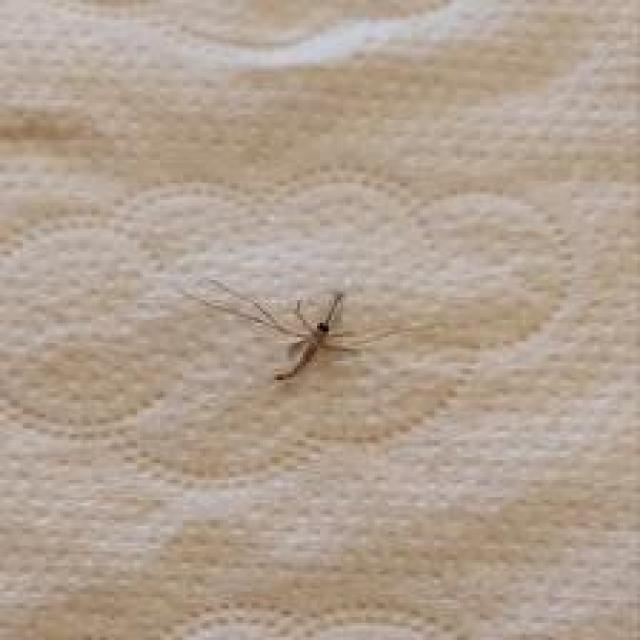Culex: (178, 276, 416, 384)
